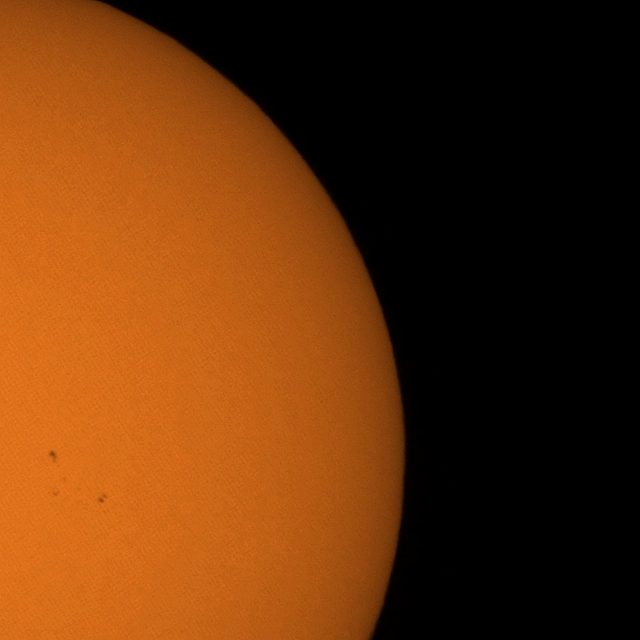sunspot: (47, 449, 59, 466), (97, 492, 108, 506)
